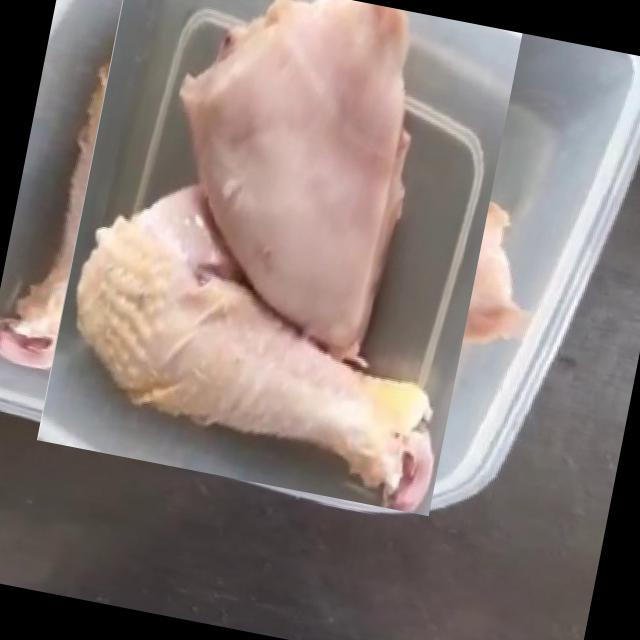chicken: (11, 0, 555, 490)
